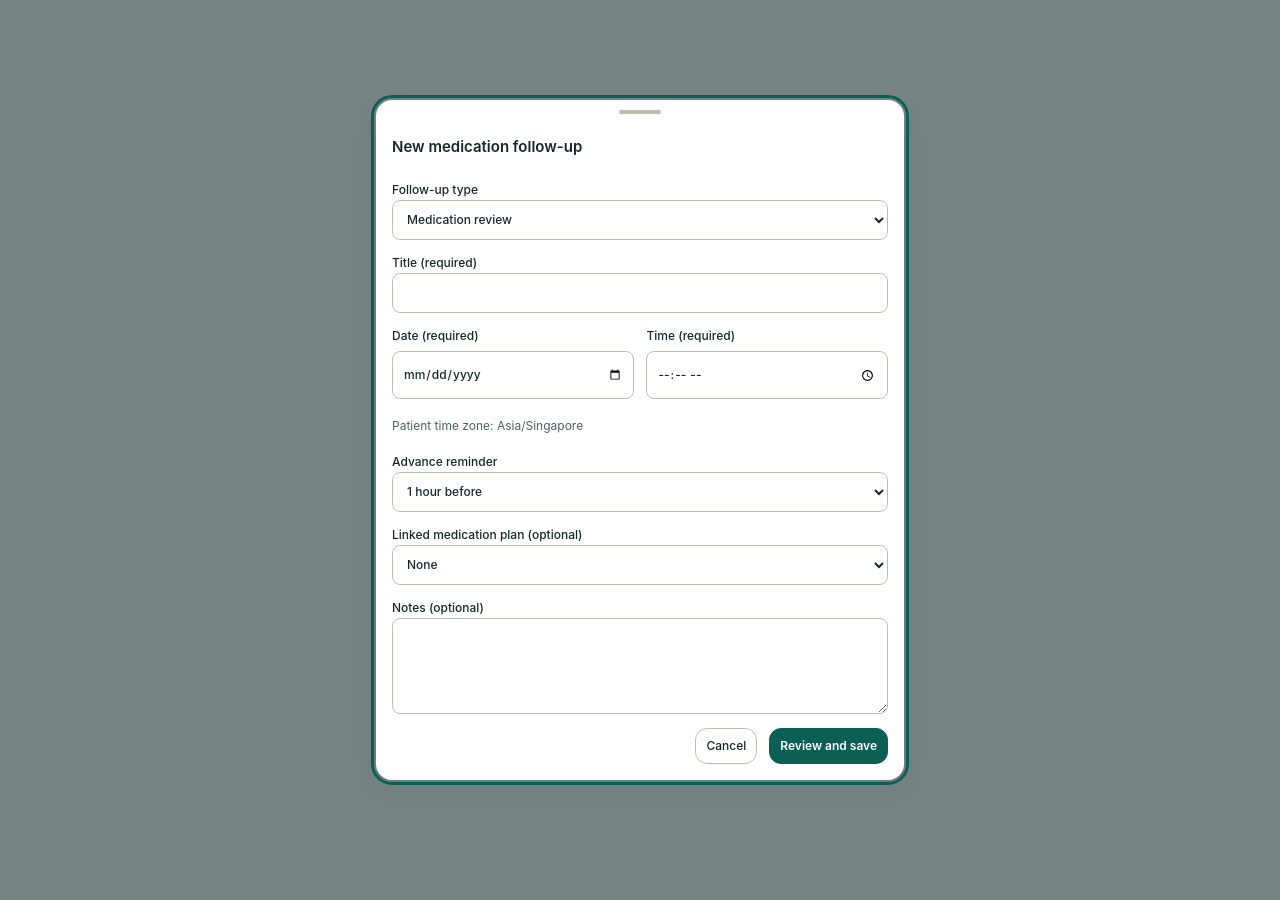
Test: allows invalid submission, shows field errors and focuses the first invalid field
Click the button "Review and save" at (829, 746), box [769,728,888,764]
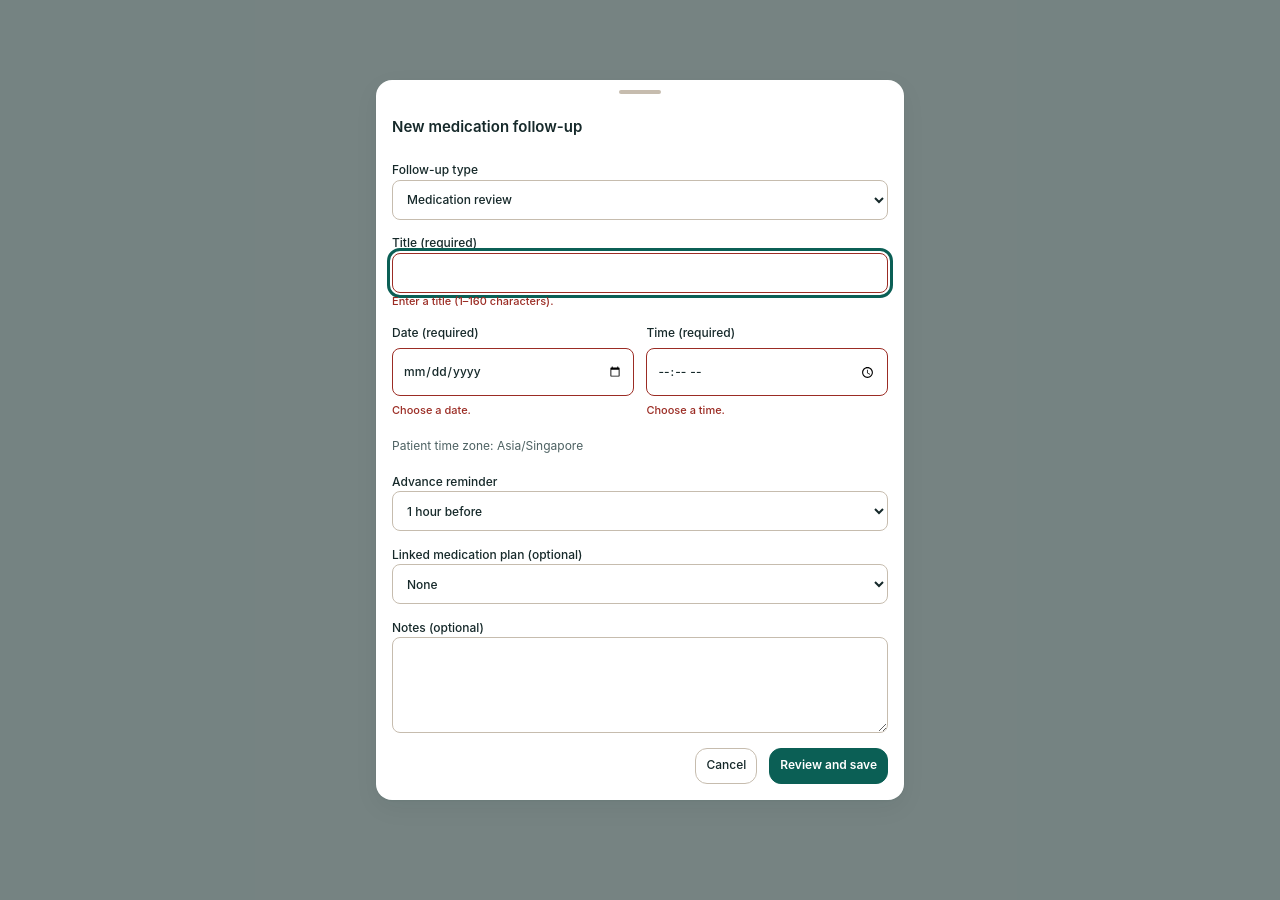
Expected: the number of messages is 3, [392,294,554,308]; [392,403,471,417]; [646,403,725,417]
